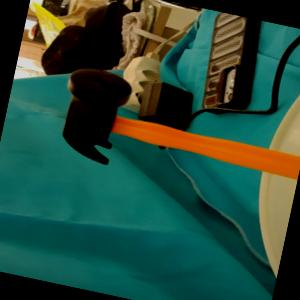martelo: (51, 62, 300, 205)
